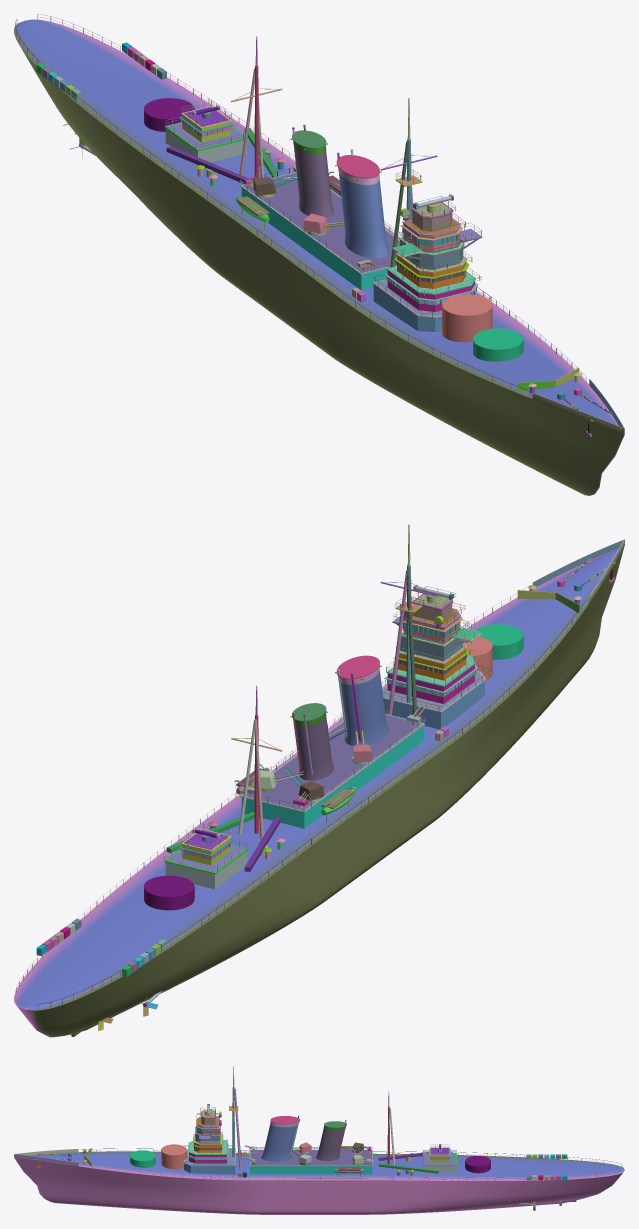
3 renders of one model, top to bottom at view 1: azimuth 30°, elevation 25°; view 2: azimuth 150°, elevation 25°; view 3: azimuth 270°, elevation 25°, orthographic. The views are drawn at different scales.
Parts seen in each view (by area): view 1: hull; view 2: hull; view 3: hull.
Part boxes in pixels (<box>): hull: <box>14,14,624,495</box>; hull: <box>14,524,624,1037</box>; hull: <box>14,1066,624,1214</box>.
Size of what is drawn, in the model's own units: 19.45 by 45.85 by 185.
